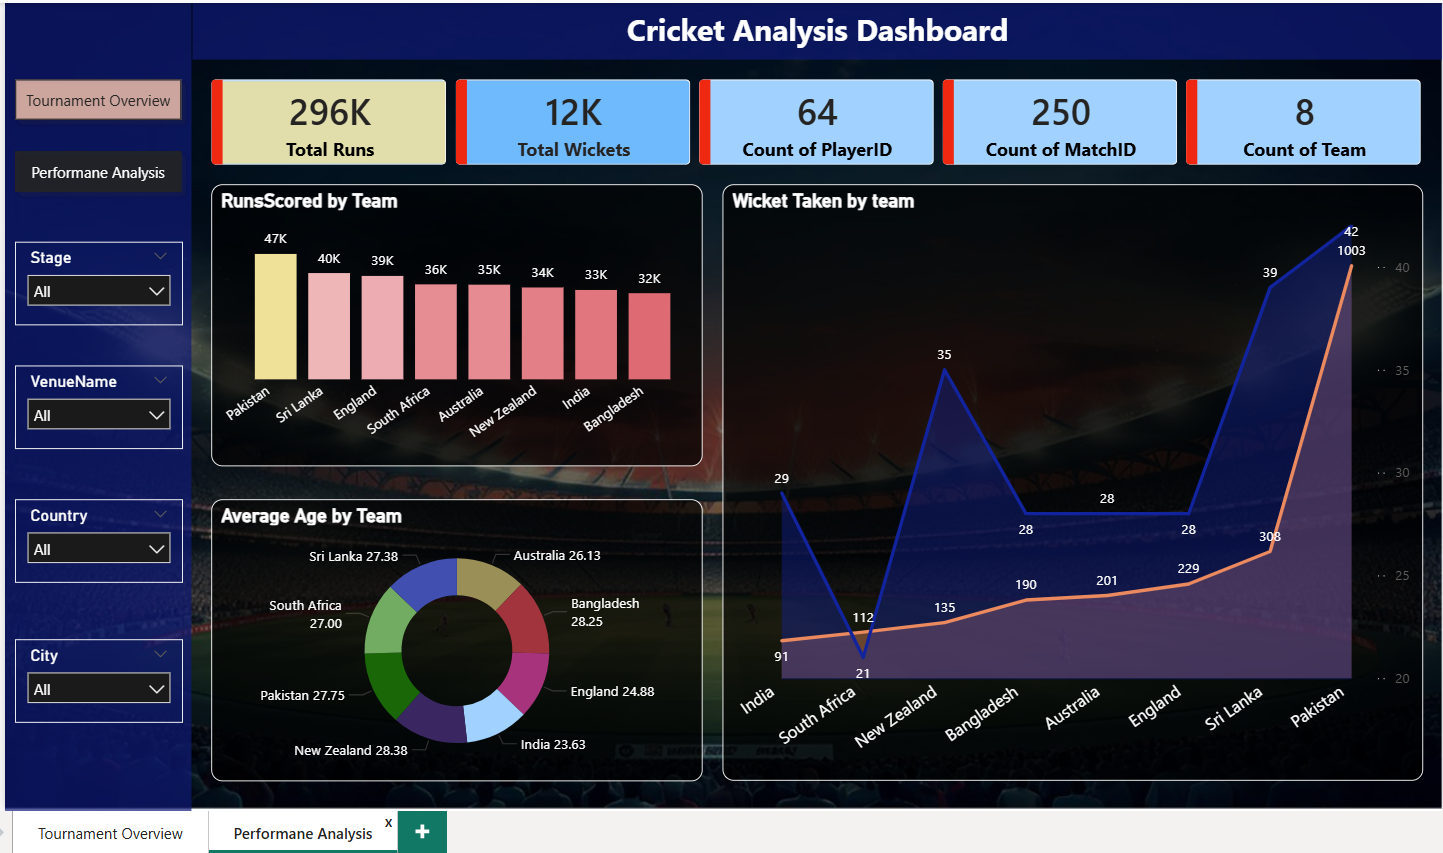

The page's visual inventory and layout, read from the dashboard file:
{"tool":"powerbi","page":{"name":" Performane Analysis","canvas":[1280,720],"ordinal":1},"visuals":[{"type":"shape","box":[0,0,166,720.4],"z":0},{"type":"textbox","box":[166.5,0,1113.5,50.7],"z":1000},{"type":"cardVisual","fields":{"Data":["Sum(FactPlayerMatch.RunsScored)","Sum(FactPlayerMatch.WicketsTaken)","CountNonNull(DimPlayer.PlayerID)","CountNonNull(DimMatch.MatchID)","Count(DimPlayer.Team)"]},"box":[166.5,50.7,1113.5,111],"z":2000},{"type":"clusteredColumnChart","title":" RunsScored by Team","fields":{"Category":["DimPlayer.Team"],"Y":["Sum(FactPlayerMatch.RunsScored)"]},"box":[183.4,161.7,437.9,250.9],"z":3000},{"type":"areaChart","title":"Wicket Taken by team","fields":{"Category":["DimMatch.Team1"],"Y2":["CountNonNull(DimMatch.Team2)"],"Y":["Sum(FactPlayerMatch.WicketsTaken)"]},"box":[639.5,161.9,624.4,531],"z":4000},{"type":"donutChart","title":"Average Age by Team","fields":{"Series":["DimPlayer.Team"],"Y":["Avg(DimPlayer.Age)"]},"box":[183.4,441.6,437.9,250.9],"z":5000},{"type":"pageNavigator","box":[0,59.1,166.5,118.2],"z":5001},{"type":"slicer","fields":{"Values":["DimMatch.Stage"]},"box":[8.4,212.3,149.6,74.8],"z":5002},{"type":"slicer","fields":{"Values":["DimVenue.VenueName"]},"box":[8.4,323.3,149.6,74.8],"z":5003},{"type":"slicer","fields":{"Values":["DimVenue.Country"]},"box":[8.4,441.6,149.6,74.8],"z":5004},{"type":"slicer","fields":{"Values":["DimVenue.City"]},"box":[8.4,567,149.6,74.8],"z":5005}]}

Visuals, with their boxes on the page's 1280x720 design canvas (x1, y1, x2, y2). These are canvas units, not pixel positions in the 1443x853 screenshot, which may show the page scaled, cropped or inside an application window:
shape: Rect(0, 0, 166, 720)
textbox: Rect(166, 0, 1280, 51)
cardVisual - Sum(FactPlayerMatch.RunsScored) x Sum(FactPlayerMatch.WicketsTaken): Rect(166, 51, 1280, 162)
" RunsScored by Team" clusteredColumnChart: Rect(183, 162, 621, 413)
"Wicket Taken by team" areaChart: Rect(640, 162, 1264, 693)
"Average Age by Team" donutChart: Rect(183, 442, 621, 692)
pageNavigator: Rect(0, 59, 166, 177)
slicer - DimMatch.Stage: Rect(8, 212, 158, 287)
slicer - DimVenue.VenueName: Rect(8, 323, 158, 398)
slicer - DimVenue.Country: Rect(8, 442, 158, 516)
slicer - DimVenue.City: Rect(8, 567, 158, 642)
